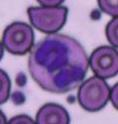N: (27, 34, 88, 92)
